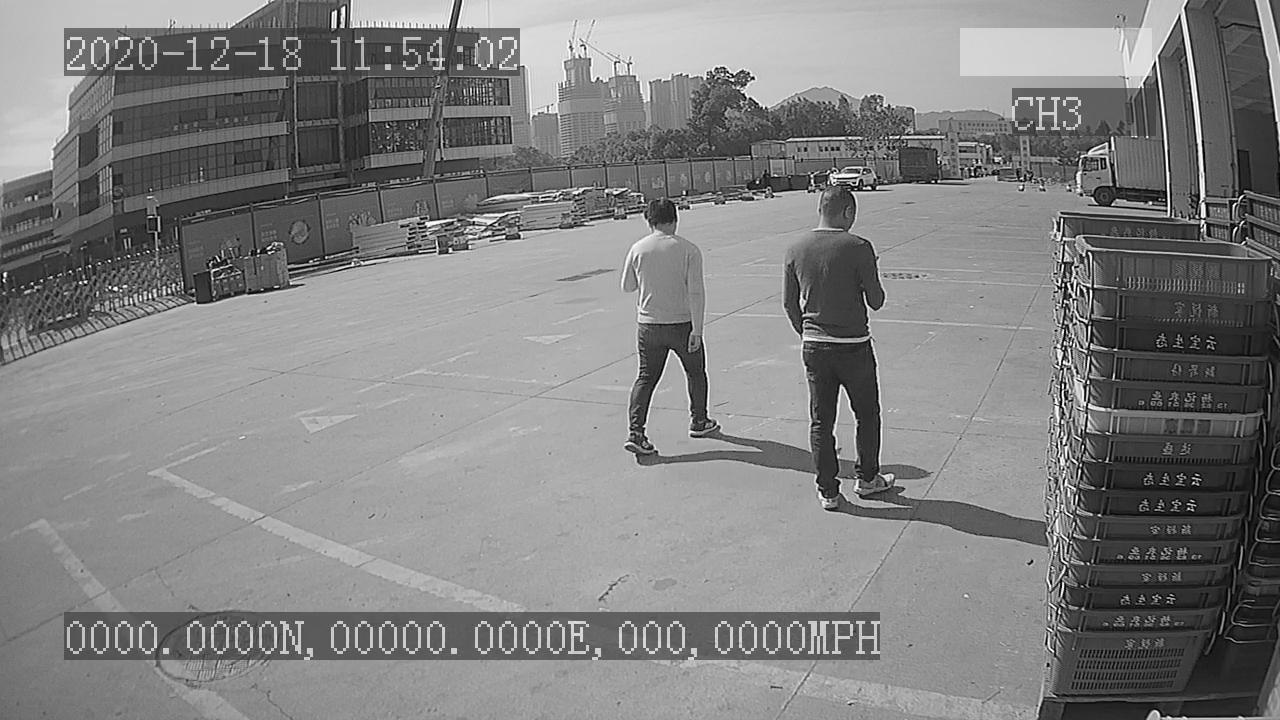person: (774, 181, 906, 513), (613, 190, 724, 470)
